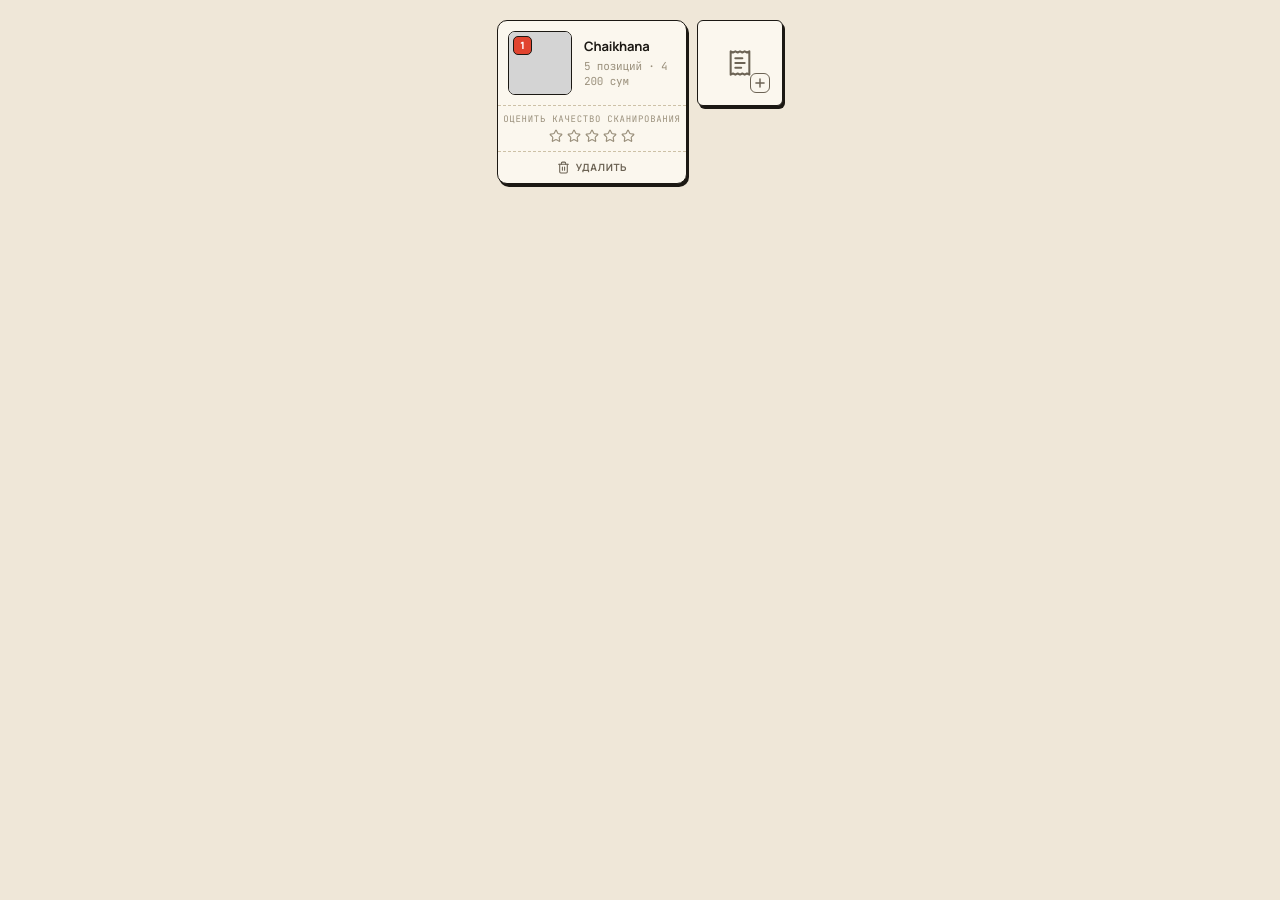
ReceiptsSection › keeps the compact add tile inside the receipt strip
This screenshot has width=1280, height=900.
Click the button named "Добавить чек" at (740, 63), box [697,20,783,106]
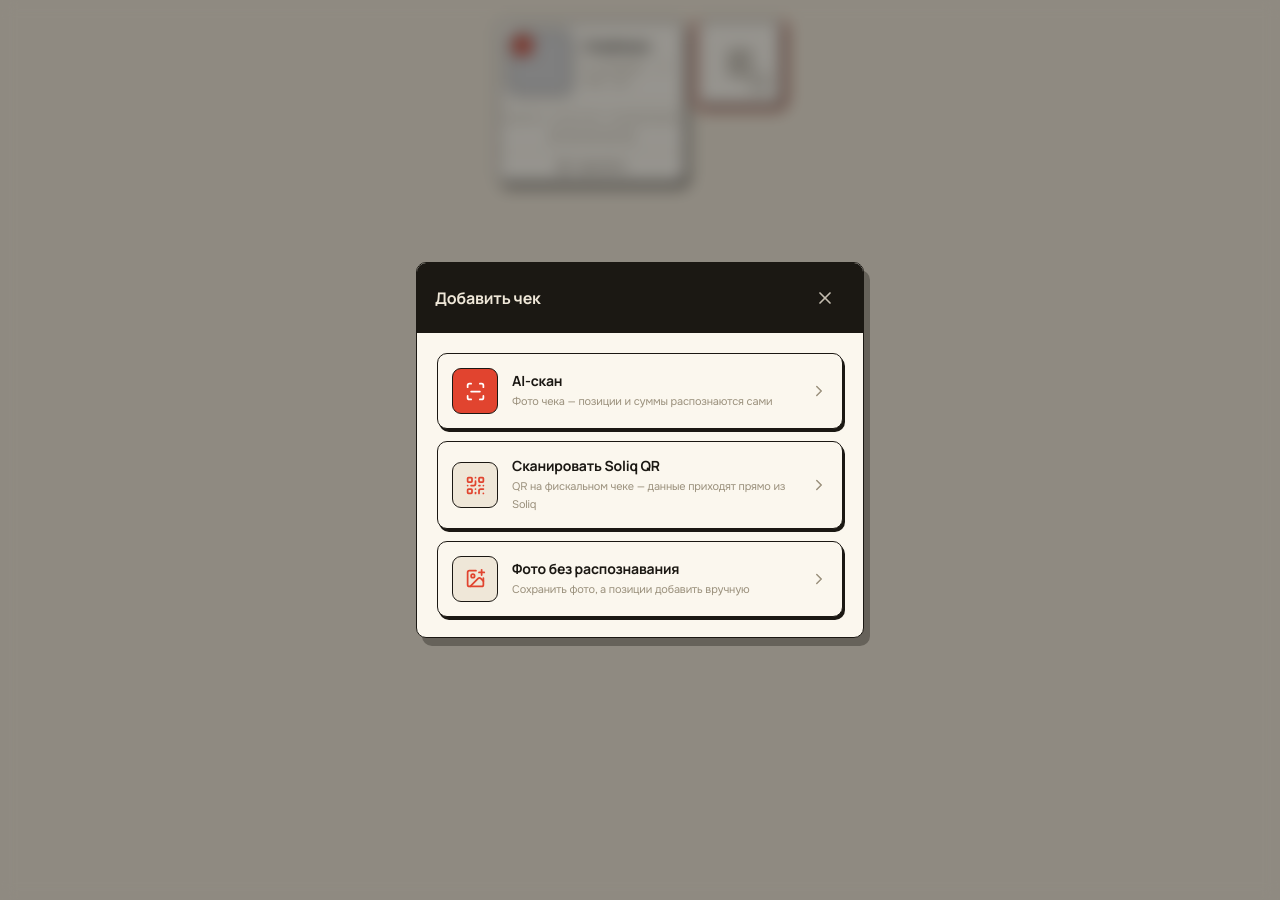
Expected: the dialog is shown, [416,262,864,638]
